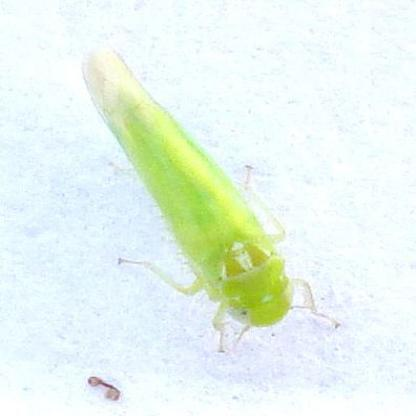green-leafhopper: (82, 52, 342, 350)
